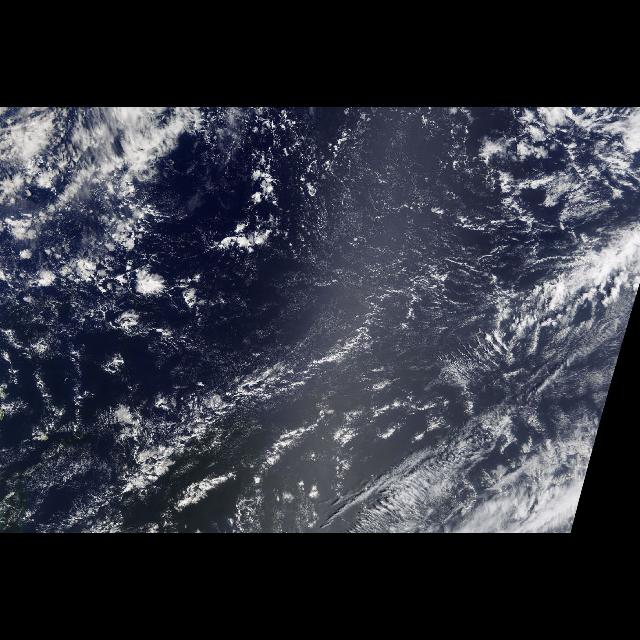Fish: (77, 220, 639, 532)
Flower: (2, 194, 270, 434)
Sugar: (150, 118, 498, 374), (0, 406, 111, 534)
